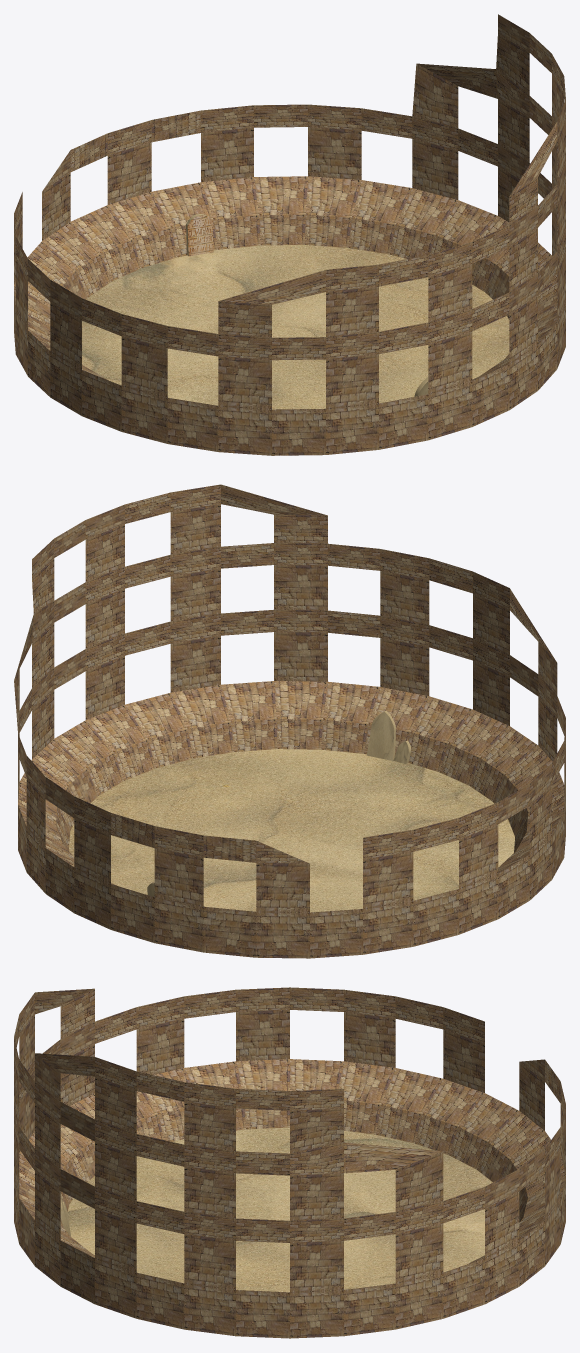
Rendered from Stage4 1.fbx.
3 views of the same model, one above another, from view 1: azimuth 30°, elevation 25°; view 2: azimuth 150°, elevation 25°; view 3: azimuth 270°, elevation 25° (orthographic).
Parts seen in each view (by area): view 1: Cylinder1, Cylinder2, Cylinder3, Cube; view 2: Cylinder1, Cylinder2, Cylinder3, Plane2; view 3: Cylinder1, Cylinder2, Cylinder3.
Boxes of the visible parts, box(x1,y1,x2,y2) form: Cylinder1: box(14, 14, 565, 455); Cylinder2: box(82, 245, 509, 409); Cylinder3: box(62, 214, 509, 319); Cube: box(186, 214, 213, 256); Cylinder1: box(14, 484, 565, 958); Cylinder2: box(69, 749, 514, 912); Cylinder3: box(56, 719, 528, 852); Plane2: box(366, 710, 396, 760); Cylinder1: box(14, 987, 565, 1338); Cylinder2: box(67, 1127, 492, 1292); Cylinder3: box(60, 1100, 527, 1225).
Bounding box in the file's own units: 16504 × 8576 × 16504.
